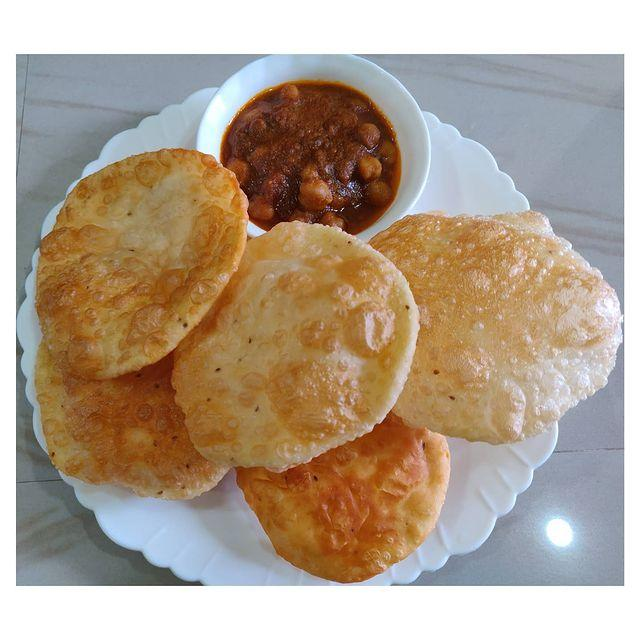Chole: (194, 42, 440, 236)
